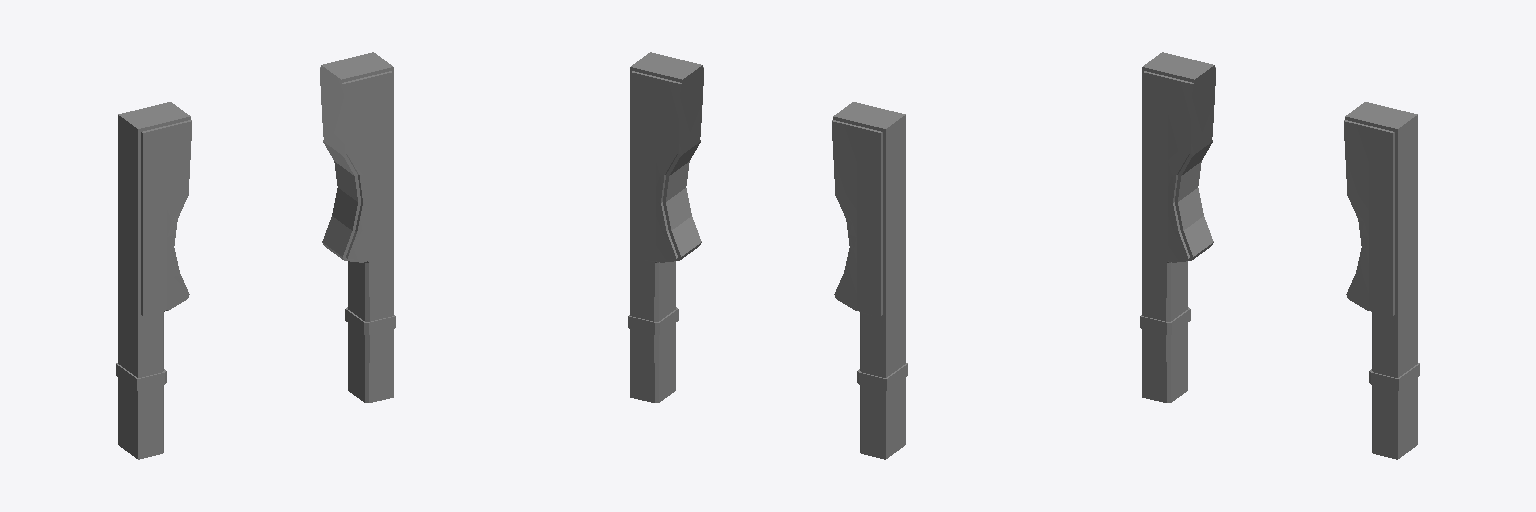
Rendered from Puente.obj.
3 views of the same model, side by side, from view 1: azimuth 30°, elevation 25°; view 2: azimuth 150°, elevation 25°; view 3: azimuth 330°, elevation 25° (orthographic).
Visible parts, largest first — view 1: StreetArch; view 2: StreetArch; view 3: StreetArch.
Part boxes in pixels (left/top/right/bottom): StreetArch: left=116, top=52, right=395, bottom=459; StreetArch: left=628, top=52, right=907, bottom=459; StreetArch: left=1140, top=52, right=1419, bottom=459.
Size of the model in its own units: 3.23 by 3.95 by 0.5173.